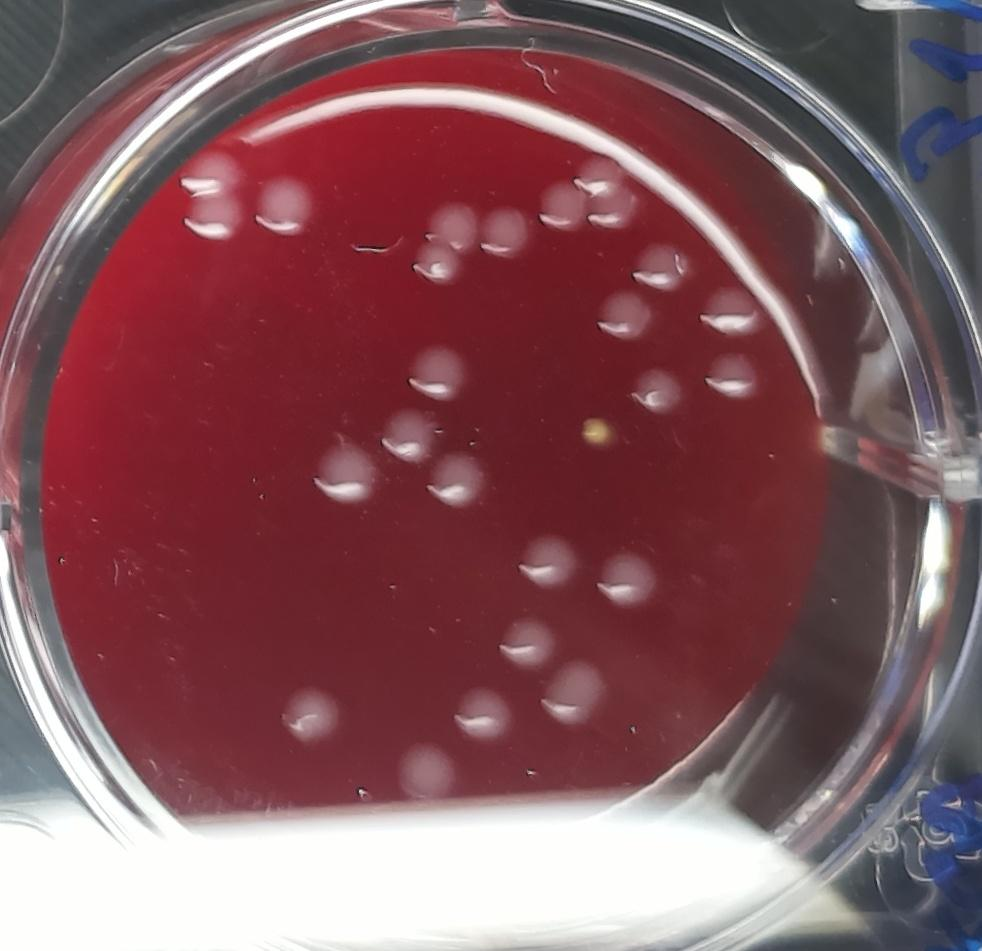pdpiscicida: (178, 145, 250, 248), (412, 196, 481, 284), (538, 652, 608, 728), (275, 678, 347, 745), (594, 542, 659, 615), (314, 437, 382, 504), (256, 168, 319, 239), (393, 739, 461, 803), (427, 446, 490, 512), (495, 611, 563, 672), (405, 344, 473, 404), (515, 531, 580, 593), (451, 685, 515, 747), (377, 404, 441, 462), (698, 281, 761, 337), (593, 289, 653, 343), (476, 207, 531, 263), (628, 365, 688, 416), (701, 350, 762, 400), (536, 179, 588, 234), (631, 241, 689, 290), (572, 155, 623, 200), (586, 189, 641, 230)
